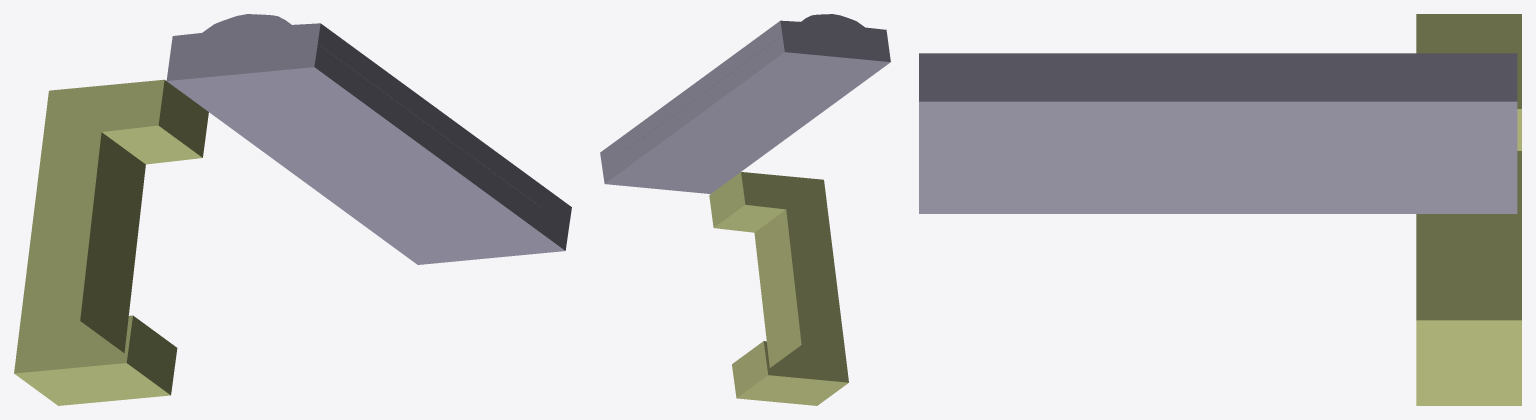
The picture shows the model from 3 angles, left to right: view 1: azimuth 30°, elevation 25°; view 2: azimuth 150°, elevation 25°; view 3: azimuth 270°, elevation 25°; orthographic projection. The views are drawn at different scales.
Visible parts, largest first — view 1: 0_0_1_2_3_0_3_3_1; view 2: 0_0_1_2_3_0_3_3_1; view 3: 0_0_1_2_3_0_3_3_1.
Boxes of the visible parts, x1,y1,x2,y2 form: 0_0_1_2_3_0_3_3_1: [14, 14, 571, 405]; 0_0_1_2_3_0_3_3_1: [600, 14, 890, 405]; 0_0_1_2_3_0_3_3_1: [919, 14, 1521, 405].
Size of the model in its own units: 35.71 by 36.07 by 51.4.
